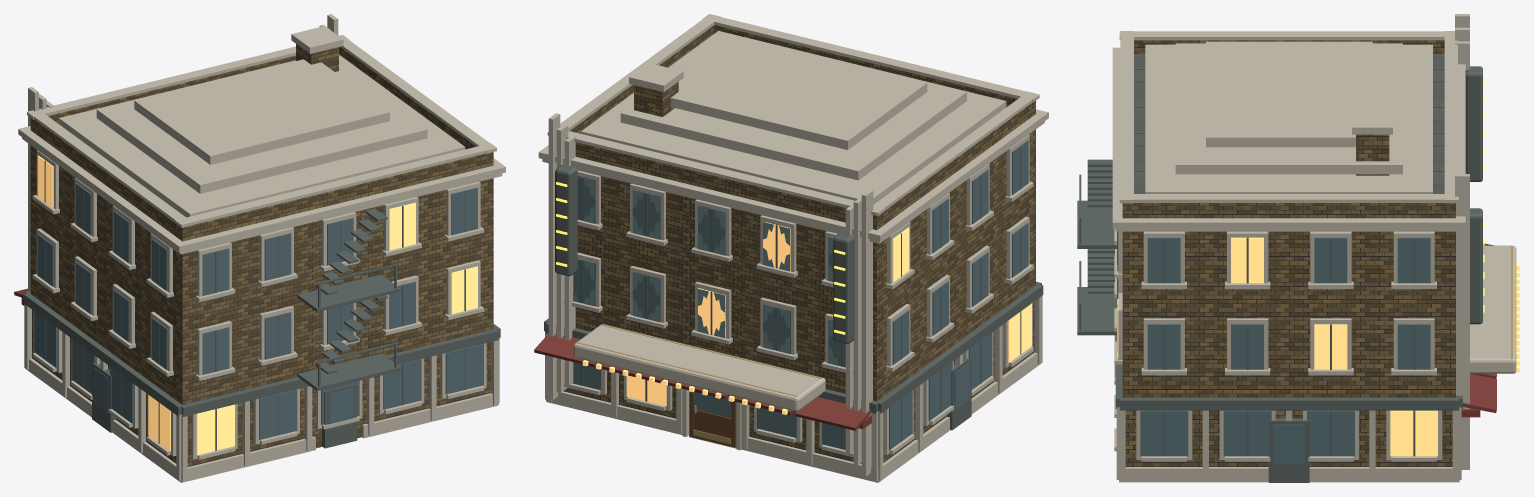
File: monarch.glb
3 renders of one model, left to right at view 1: azimuth 30°, elevation 25°; view 2: azimuth 150°, elevation 25°; view 3: azimuth 270°, elevation 25°, orthographic. The views are drawn at different scales.
Visible parts, largest first — view 1: foundation wing, masonry wing, window pane.001, roof tar seam, window pane; view 2: foundation wing, masonry wing, window pane.001, roof tar seam, window pane.019, window glass remnant, window pane, canvas awning, window pane.021, door bottom rail, marquee brass edge, door glazing; view 3: foundation wing, masonry wing, roof tar seam, window pane.001, window pane, roof, canvas awning.
Boxes of the visible parts, <box> form: foundation wing: <box>18,14,505,482</box>; masonry wing: <box>30,44,493,466</box>; window pane.001: <box>34,183,483,439</box>; roof tar seam: <box>23,160,500,450</box>; window pane: <box>37,155,477,455</box>; foundation wing: <box>538,14,1048,482</box>; masonry wing: <box>563,25,1035,463</box>; window pane.001: <box>572,140,1028,449</box>; roof tar seam: <box>544,145,1043,449</box>; window pane.019: <box>573,176,845,366</box>; window glass remnant: <box>573,177,845,367</box>; window pane: <box>582,227,1031,414</box>; canvas awning: <box>534,333,871,430</box>; window pane.021: <box>698,221,790,337</box>; door bottom rail: <box>689,391,736,447</box>; marquee brass edge: <box>577,324,822,396</box>; door glazing: <box>693,391,731,418</box>; foundation wing: <box>1112,14,1516,482</box>; masonry wing: <box>1122,40,1455,466</box>; roof tar seam: <box>1077,55,1482,482</box>; window pane.001: <box>1115,231,1430,463</box>; window pane: <box>1117,237,1519,456</box>; roof: <box>1124,54,1455,218</box>; canvas awning: <box>1461,243,1496,417</box>.
Size of the model in its own units: 13.65 by 12.06 by 14.61.
Materials: 13 (2 with a texture image).
